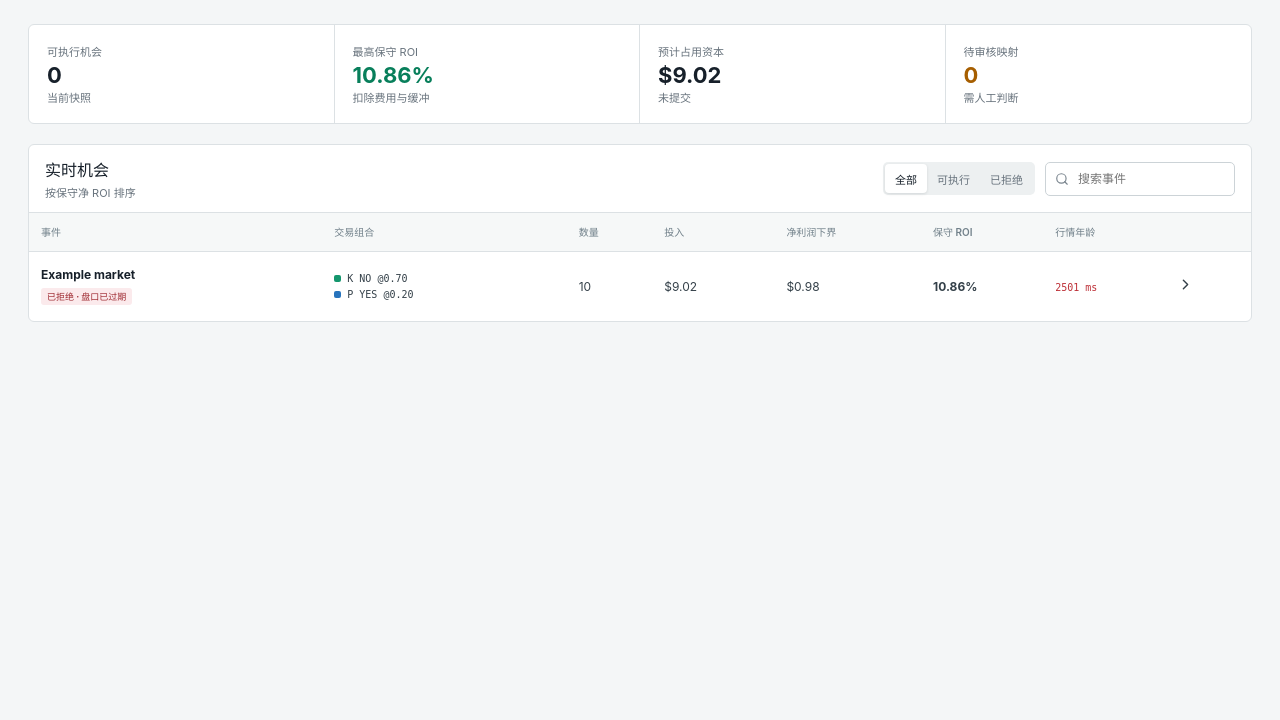
Test case: explains structured opportunity rejection evidence in Chinese
Click the text "Example market". click: [88, 275]
box: [41,267,135,282]
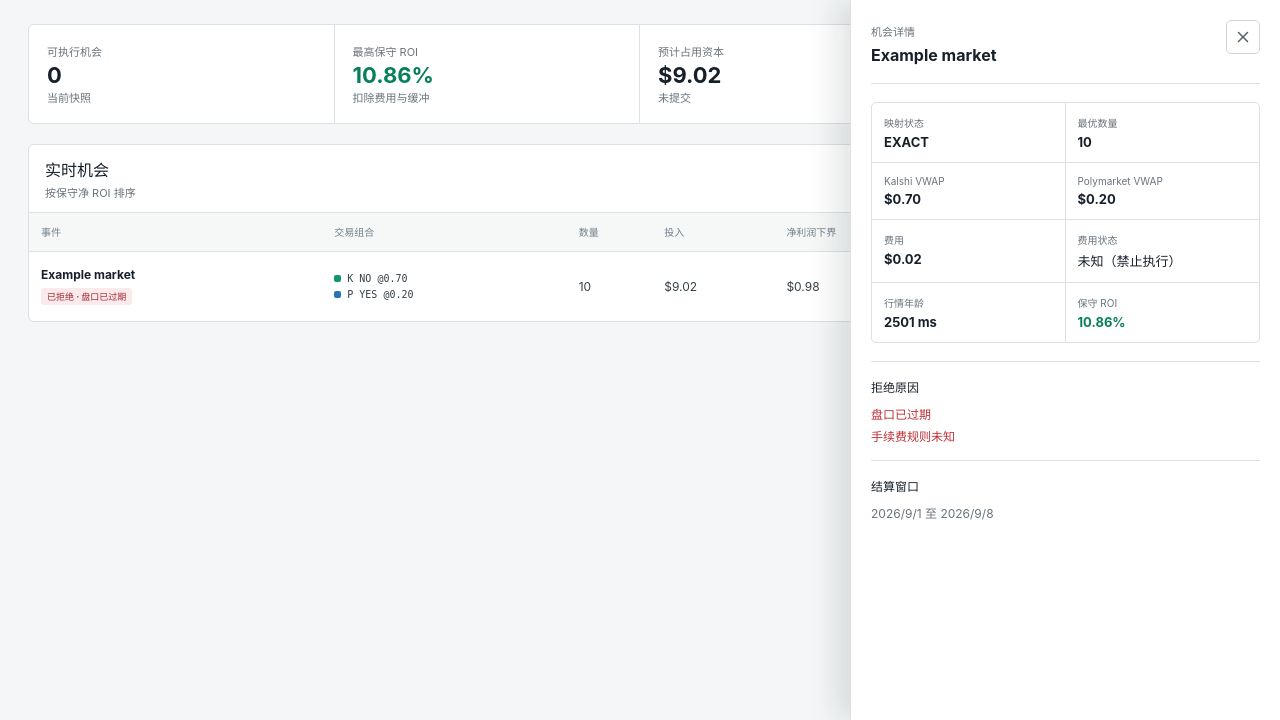
Expected: the text "盘口已过期" is shown, [871,407,931,422]
Expected: the text "手续费规则未知" is shown, [871,429,955,444]
Expected: the text "未知（禁止执行）" is shown, [1078,253,1182,269]
